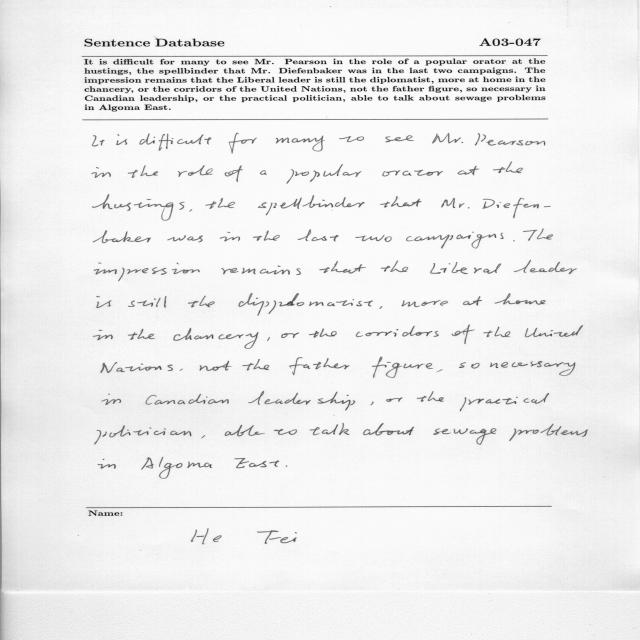word: (239, 293, 373, 316), (93, 195, 185, 221), (248, 391, 355, 411), (258, 195, 364, 215), (94, 263, 200, 282), (95, 425, 191, 445), (173, 328, 259, 349), (406, 232, 504, 249), (460, 393, 549, 411), (141, 457, 212, 479), (287, 164, 362, 184), (483, 198, 551, 218), (509, 424, 588, 441), (140, 133, 212, 151), (372, 357, 433, 378), (490, 361, 575, 376), (433, 428, 497, 445), (289, 358, 349, 376), (356, 326, 439, 337), (146, 394, 229, 405), (475, 133, 545, 146), (514, 260, 577, 274), (430, 262, 501, 274), (221, 266, 301, 276), (101, 362, 173, 373), (276, 136, 325, 152), (93, 230, 151, 243), (525, 325, 583, 337), (364, 423, 415, 436), (495, 293, 546, 305), (319, 261, 366, 274), (229, 133, 257, 154), (380, 196, 422, 208), (298, 230, 339, 242), (128, 296, 167, 308), (310, 423, 349, 435), (224, 425, 265, 436), (234, 458, 279, 468), (452, 325, 475, 344), (178, 165, 213, 177), (128, 165, 158, 178), (382, 170, 443, 176), (523, 229, 553, 241), (493, 162, 523, 173), (205, 198, 235, 209), (199, 361, 232, 371), (381, 261, 408, 273), (188, 296, 215, 308), (402, 300, 448, 307), (432, 133, 463, 143), (225, 165, 243, 182), (253, 230, 280, 241), (128, 329, 155, 340), (243, 359, 270, 370), (417, 391, 444, 402), (442, 198, 470, 208), (484, 327, 511, 337), (355, 235, 392, 242), (167, 236, 203, 243), (309, 329, 337, 338), (458, 166, 479, 176), (92, 167, 111, 178), (102, 394, 121, 405), (93, 330, 113, 340), (386, 136, 414, 143), (463, 296, 482, 306), (220, 232, 240, 241), (98, 459, 116, 469), (97, 296, 111, 308), (92, 135, 105, 147), (339, 136, 364, 142), (459, 362, 480, 369), (274, 429, 297, 435), (116, 134, 127, 145), (281, 333, 299, 338), (386, 397, 402, 402), (260, 170, 267, 175), (437, 369, 442, 372), (267, 337, 270, 341), (202, 435, 206, 438), (190, 209, 193, 212), (379, 306, 382, 309), (371, 402, 374, 405), (180, 369, 183, 371), (513, 241, 515, 242), (286, 466, 287, 467)
